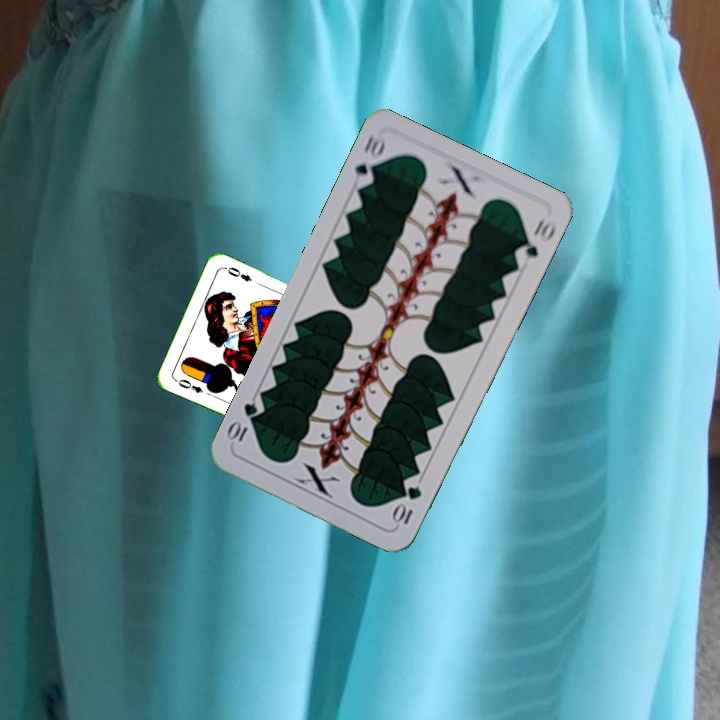EO: (171, 375, 205, 396)
G10: (350, 129, 388, 191), (388, 481, 425, 529)
